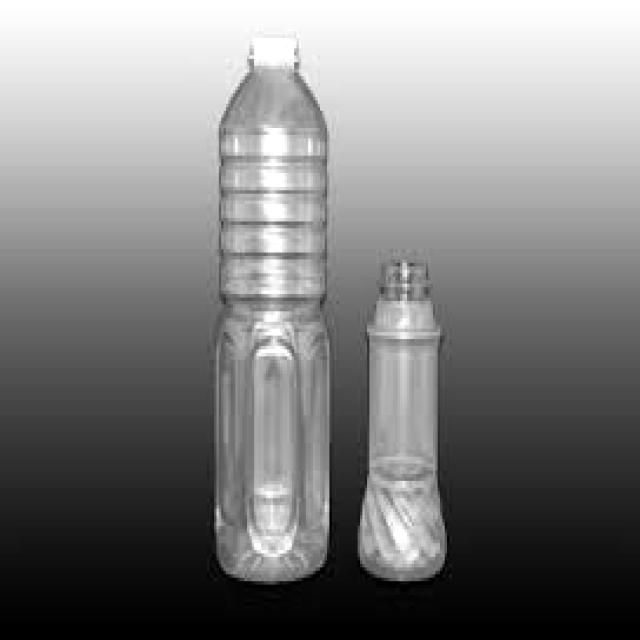Plastic: (210, 32, 334, 582), (358, 257, 450, 581)
